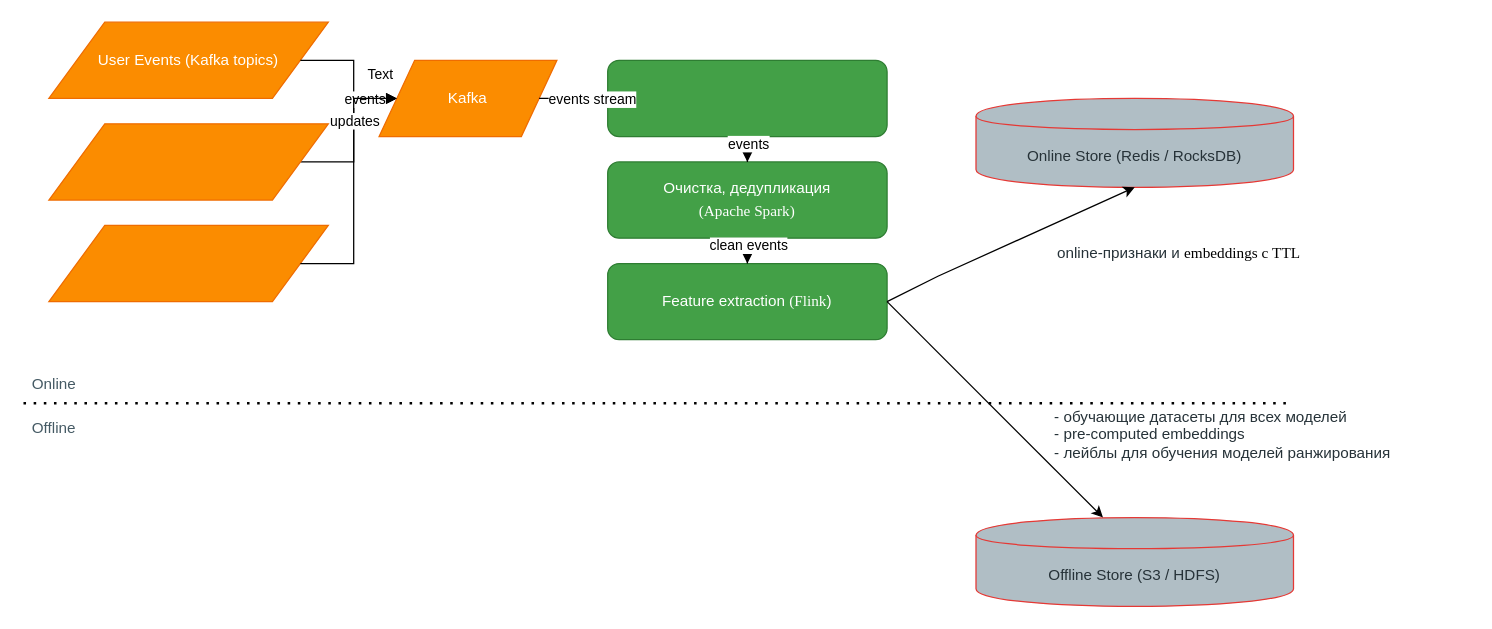
The diagram is 1492 pixels wide and 629 high, and some of its shapes have lost their labels. Each missing label, with the centre of its shape:
"Pricing / Availability" goes at point 188,263.
"Product Updates" goes at point 188,161.
"Stream Processor (Flink)" goes at point 746,98.
